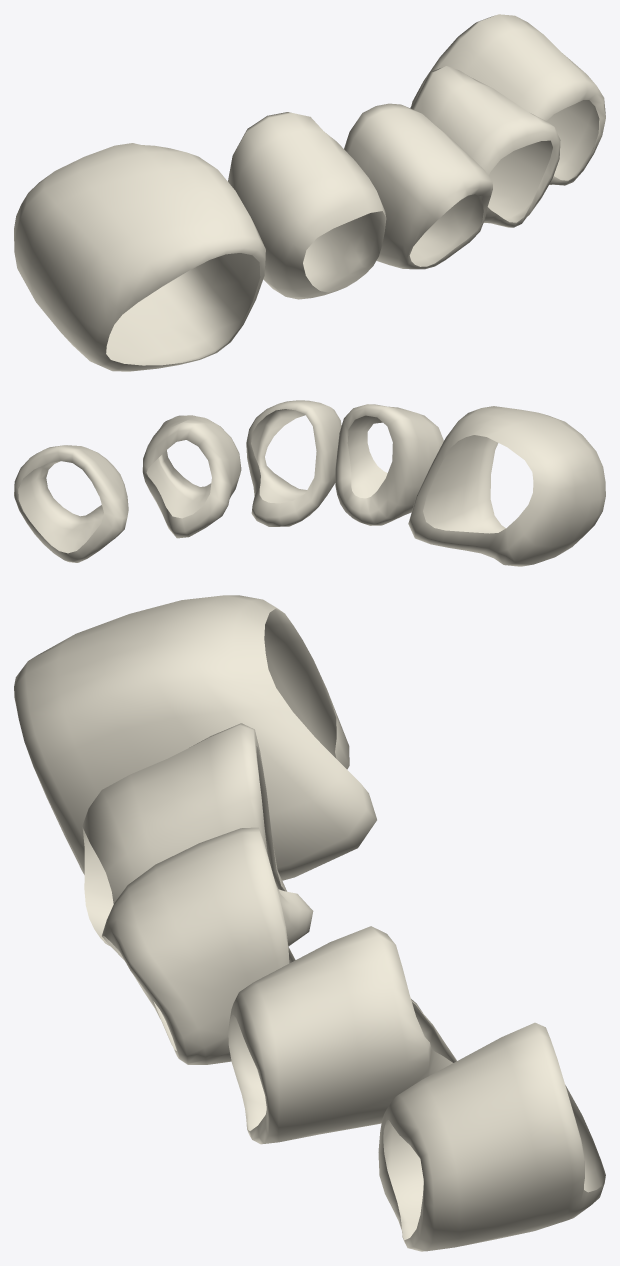
3 views of the same model, one above another, from view 1: azimuth 30°, elevation 25°; view 2: azimuth 150°, elevation 25°; view 3: azimuth 270°, elevation 25° (orthographic). The views are drawn at different scales.
Parts seen in each view (by area): view 1: ZA_4cd7ec615c84c1d2; view 2: ZA_4cd7ec615c84c1d2; view 3: ZA_4cd7ec615c84c1d2.
Part boxes in pixels (<box>): ZA_4cd7ec615c84c1d2: <box>14,14,605,371</box>; ZA_4cd7ec615c84c1d2: <box>14,400,605,566</box>; ZA_4cd7ec615c84c1d2: <box>14,595,605,1251</box>.
Bounding box in the file's own units: 0.0808 × 0.0247 × 0.0454.
